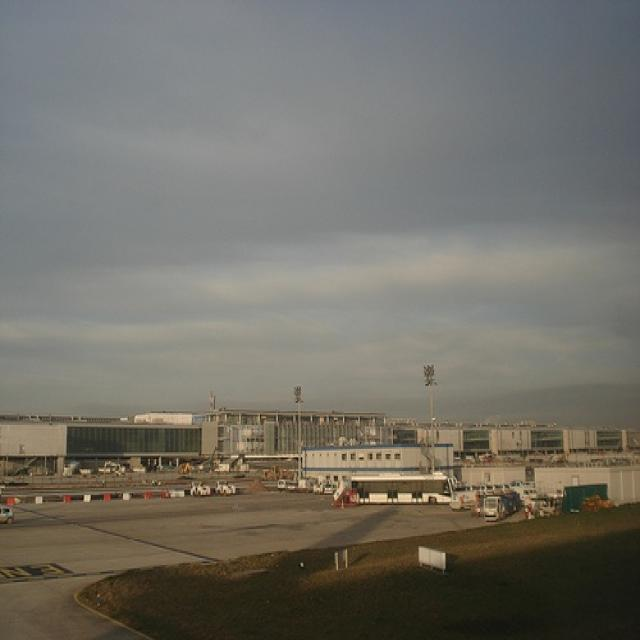bus: (344, 473, 456, 502), (483, 491, 517, 524)
